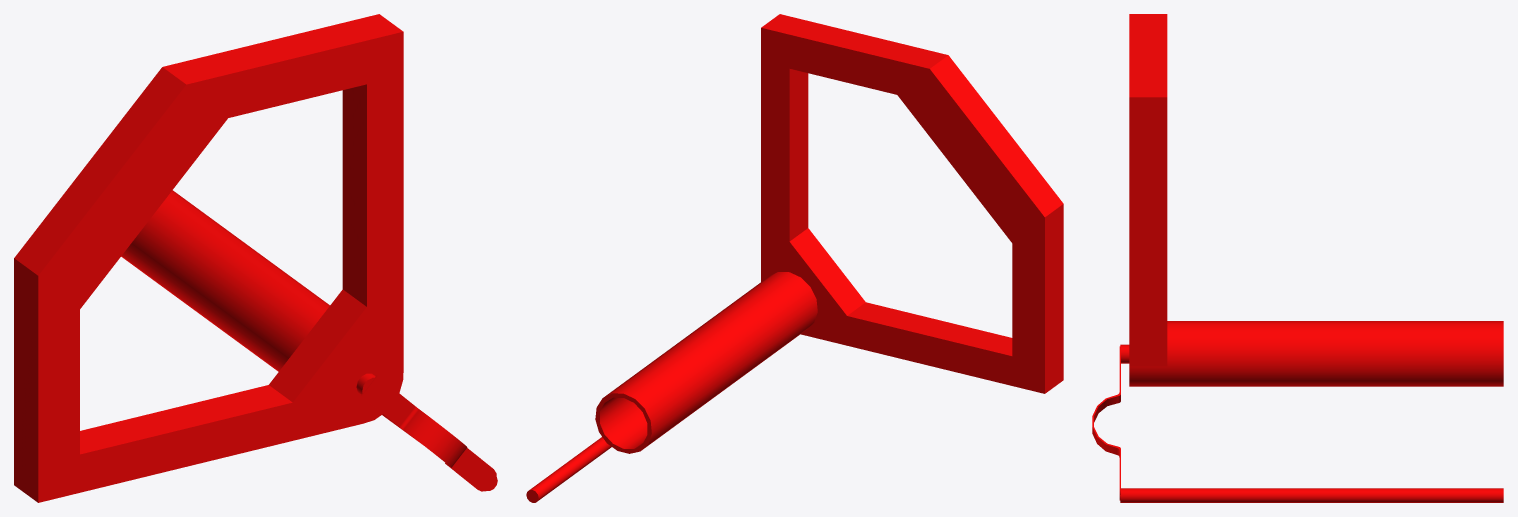
The model's file is transformador_2.obj.
The picture shows the model from 3 angles, left to right: view 1: azimuth 30°, elevation 25°; view 2: azimuth 150°, elevation 25°; view 3: azimuth 270°, elevation 25°; orthographic projection. The views are drawn at different scales.
Size of the model in its own units: 276 by 276 by 275.
